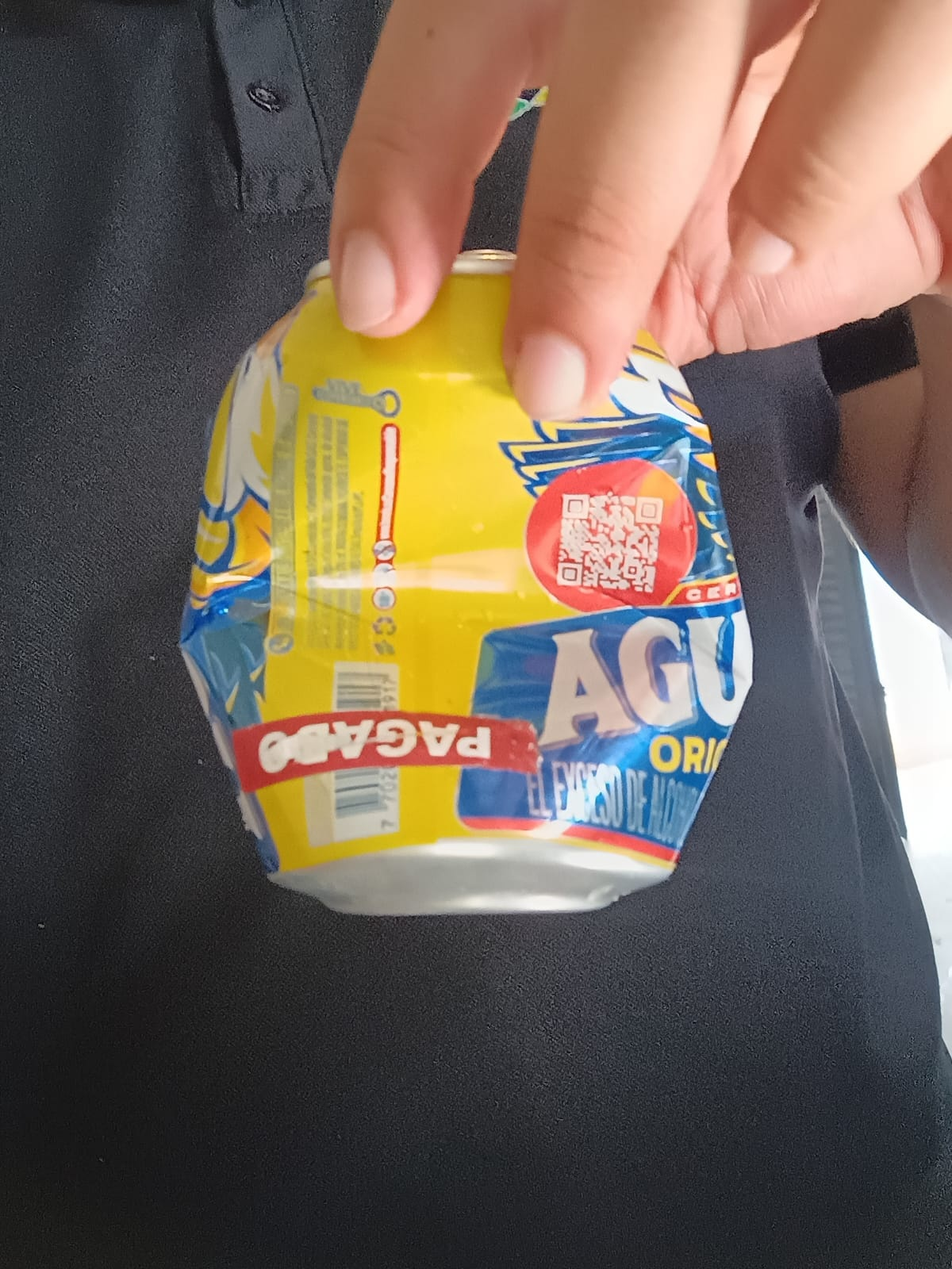Metal: (173, 234, 752, 919)
